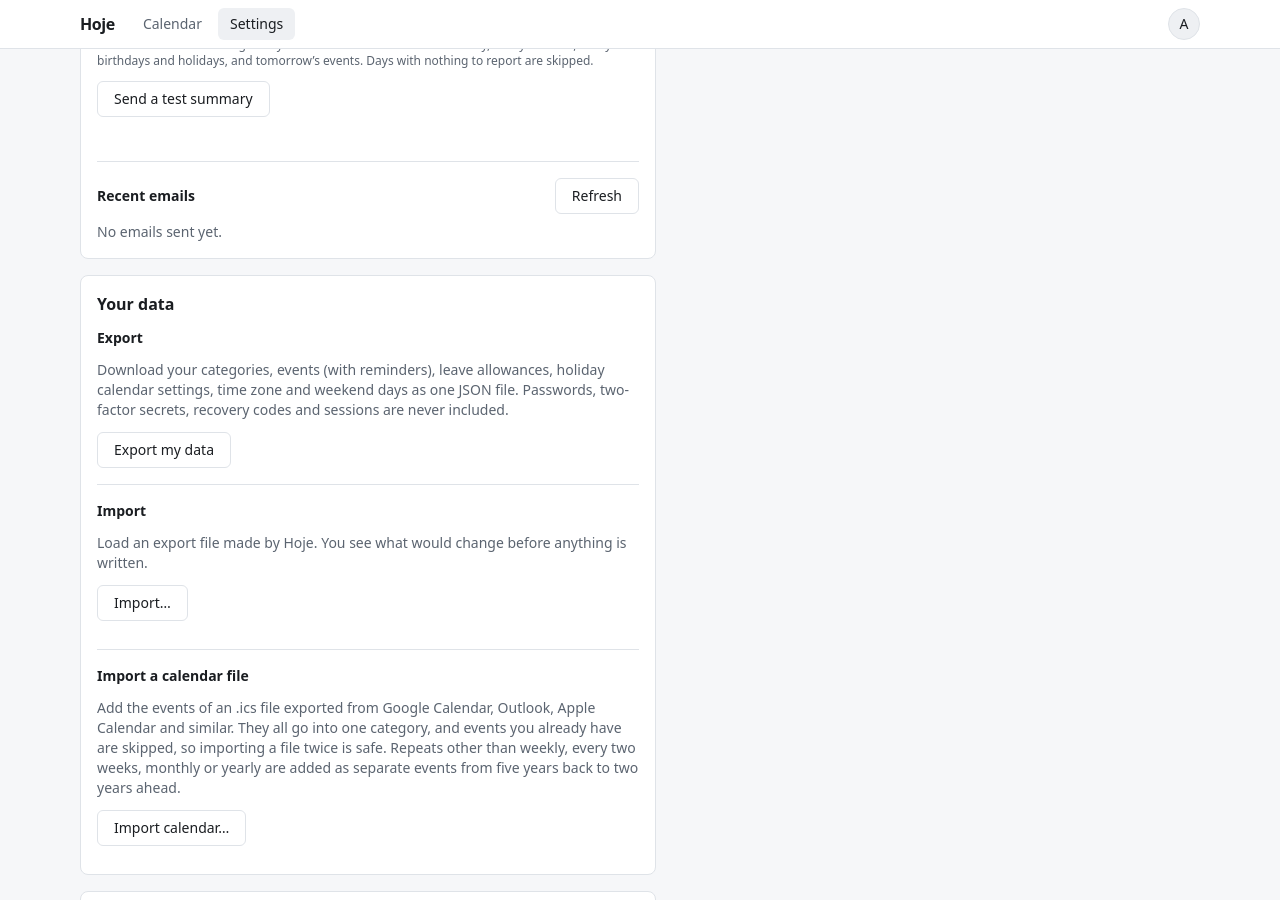
Scenario: export › downloads the file under the name the server suggests and frees the object URL
(page scrolled)
Expected: the text "never included" is shown, [97,360,629,419]
Click the button "Export my data": [164, 450] box [97,432,231,468]
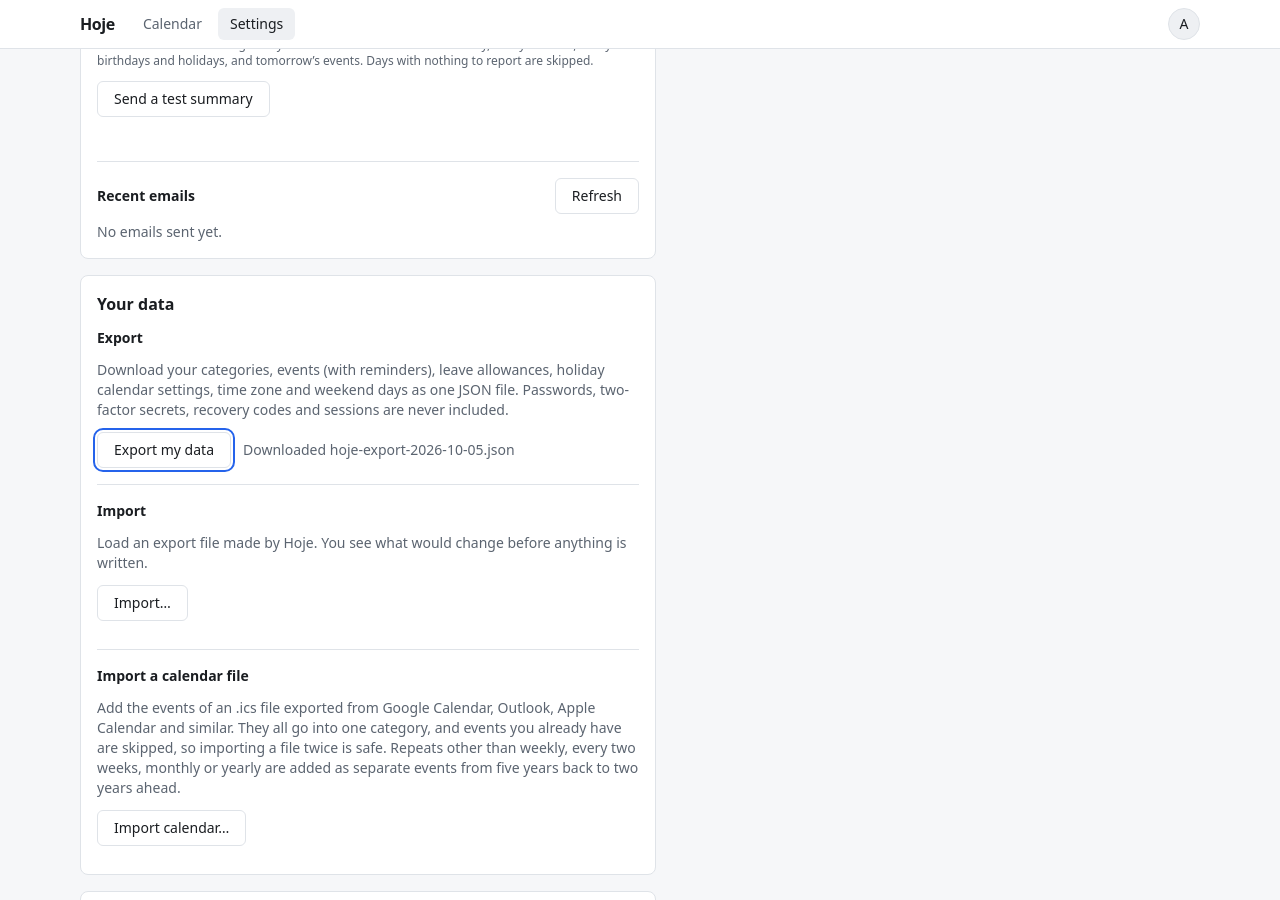
Expected: the text "Downloaded hoje-export-2026-10-05.json" is shown, [243,440,515,460]
